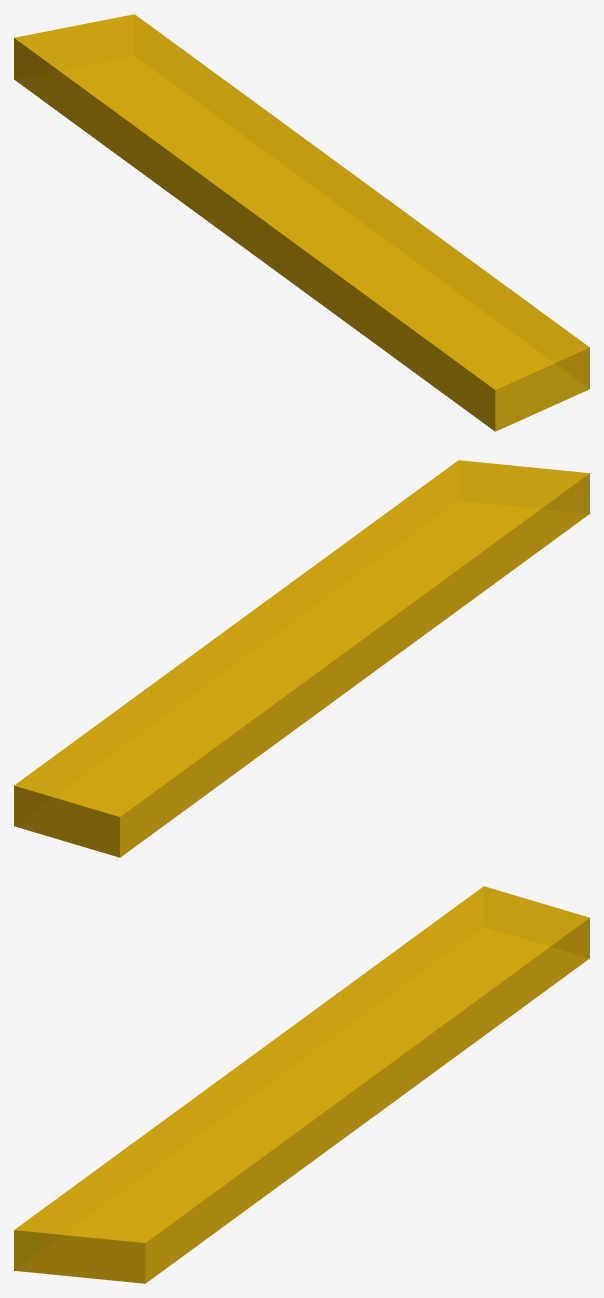
File: SM_Bld_Dock_Plank_01_Collision.fbx
3 views of the same model, one above another, from view 1: azimuth 30°, elevation 25°; view 2: azimuth 150°, elevation 25°; view 3: azimuth 330°, elevation 25° (orthographic). The views are drawn at different scales.
Visible parts, largest first — view 1: SM_Bld_Dock_Plank_01_Collision; view 2: SM_Bld_Dock_Plank_01_Collision; view 3: SM_Bld_Dock_Plank_01_Collision.
Boxes of the visible parts, x1,y1,x2,y2 form: SM_Bld_Dock_Plank_01_Collision: [14, 14, 589, 431]; SM_Bld_Dock_Plank_01_Collision: [14, 460, 589, 857]; SM_Bld_Dock_Plank_01_Collision: [14, 886, 589, 1283].
Bounding box in the file's own units: 36.22 × 12.57 × 263.
